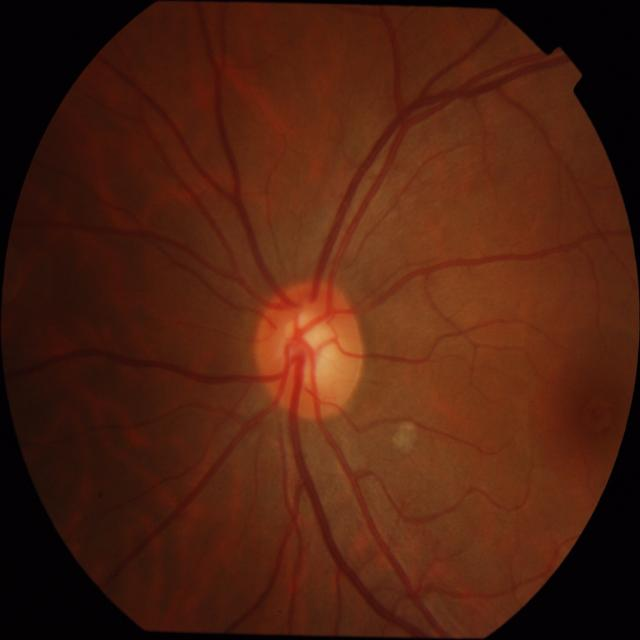OC: (276, 305, 345, 392)
OD: (253, 280, 365, 419)
